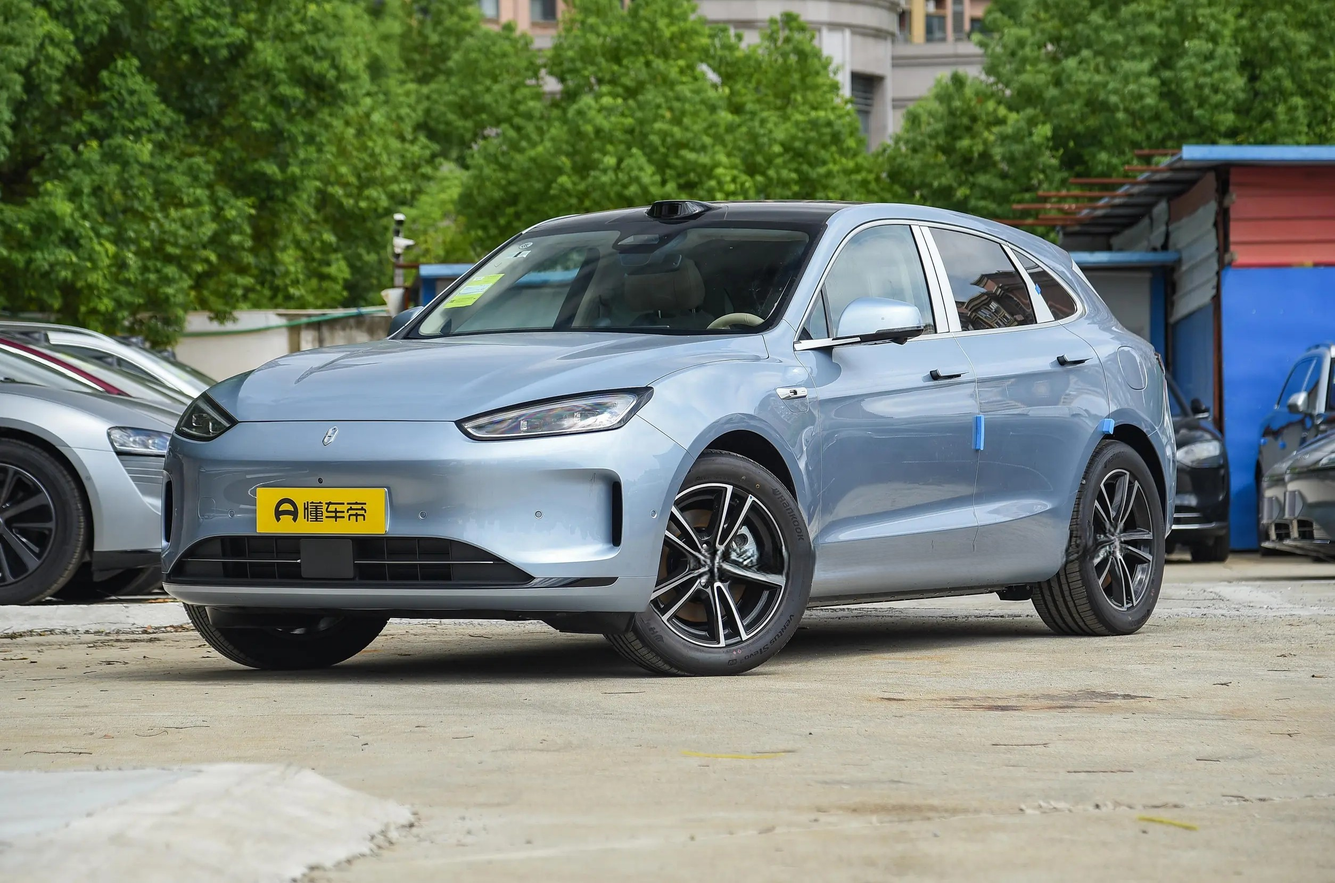AITO: (322, 426, 337, 445)
